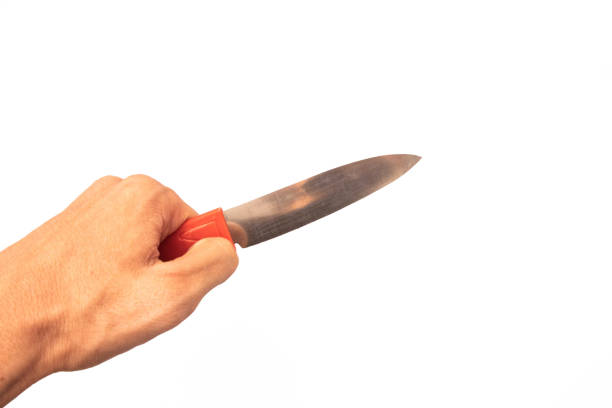knife: (160, 152, 423, 262)
